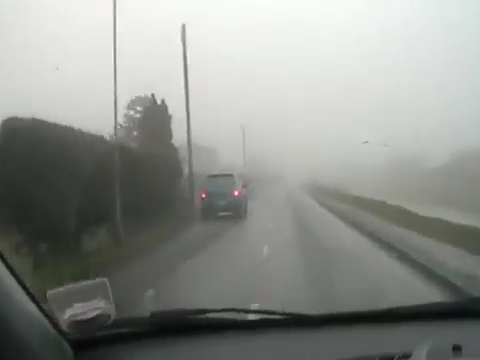car: (200, 172, 249, 220)
